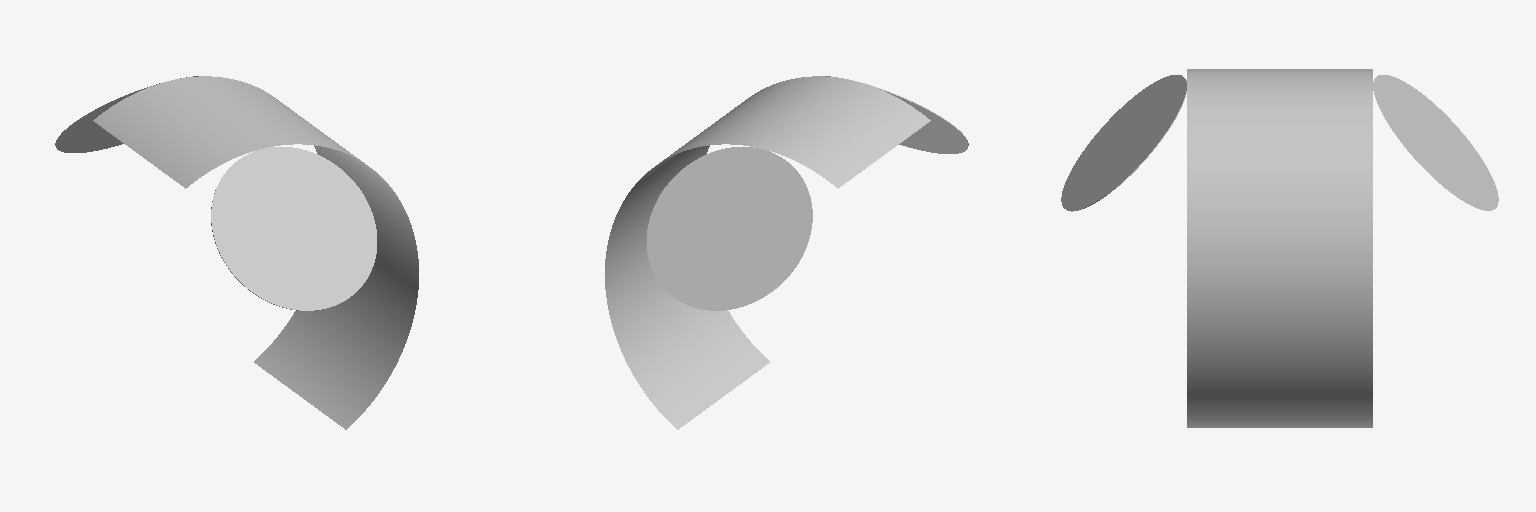
The model's file is plane bend50.obj.
3 renders of one model, left to right at view 1: azimuth 30°, elevation 25°; view 2: azimuth 150°, elevation 25°; view 3: azimuth 270°, elevation 25°, orthographic.
Parts seen in each view (by area): view 1: Plane, Circle, Circle.001; view 2: Plane, Circle.001, Circle; view 3: Plane, Circle, Circle.001.
Boxes of the visible parts, <box> form: Plane: <box>93,76,418,429</box>; Circle: <box>211,147,376,310</box>; Circle.001: <box>55,76,198,152</box>; Plane: <box>605,76,930,429</box>; Circle.001: <box>647,147,812,310</box>; Circle: <box>825,76,968,153</box>; Plane: <box>1187,69,1372,427</box>; Circle: <box>1061,75,1186,211</box>; Circle.001: <box>1373,75,1498,210</box>.
Size of the model in its own units: 2.9 by 3.58 by 4.7.